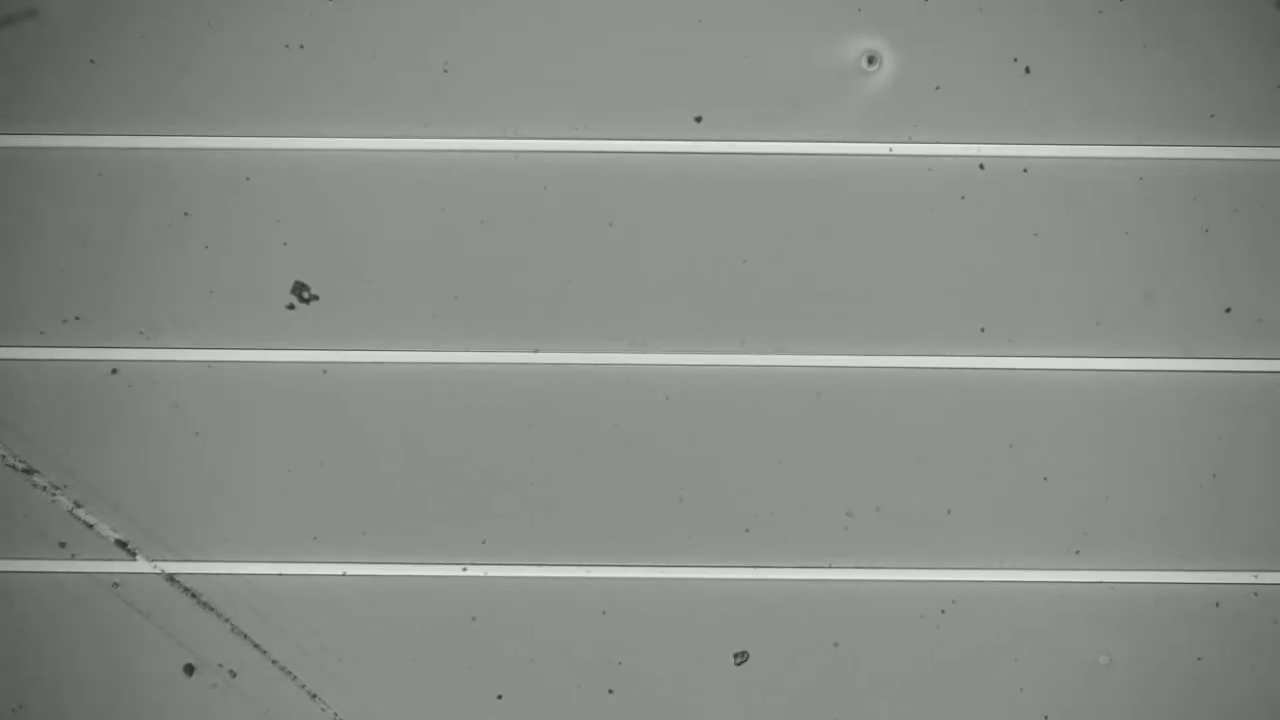scratch: (7, 458, 353, 719)
